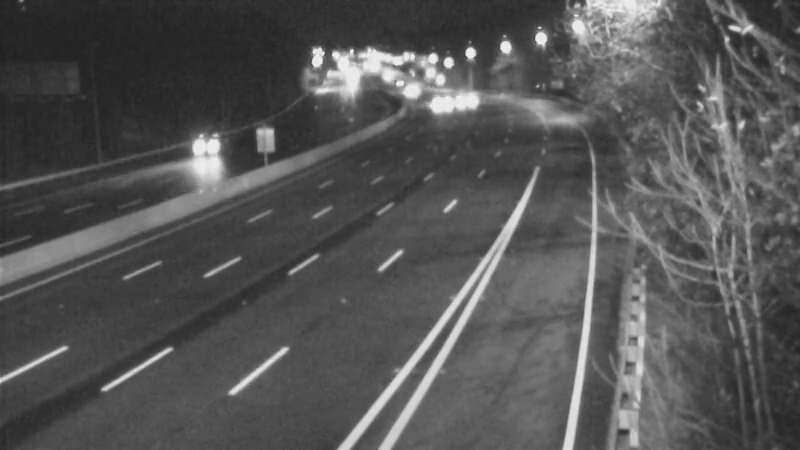vehicle: (371, 59, 421, 109), (438, 79, 488, 129), (385, 63, 435, 113), (411, 81, 461, 131), (189, 122, 239, 172)
